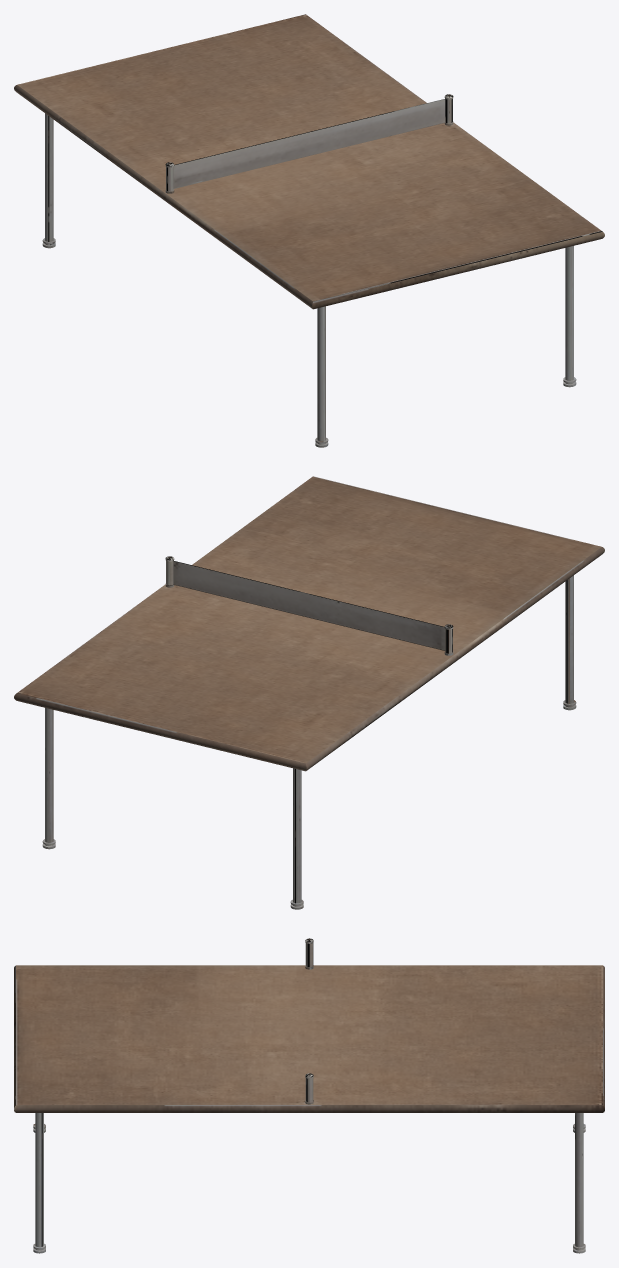
3 renders of one model, top to bottom at view 1: azimuth 30°, elevation 25°; view 2: azimuth 150°, elevation 25°; view 3: azimuth 270°, elevation 25°, orthographic.
Visible parts, largest first — view 1: Node; view 2: Node; view 3: Node.
Part boxes in pixels (box(x1,y1,x2,y2)): Node: box(14, 14, 604, 447); Node: box(14, 476, 604, 909); Node: box(14, 938, 604, 1253).
Size of the model in its own units: 0.3965 by 0.2402 by 0.7.
1 material, 1 textured.
